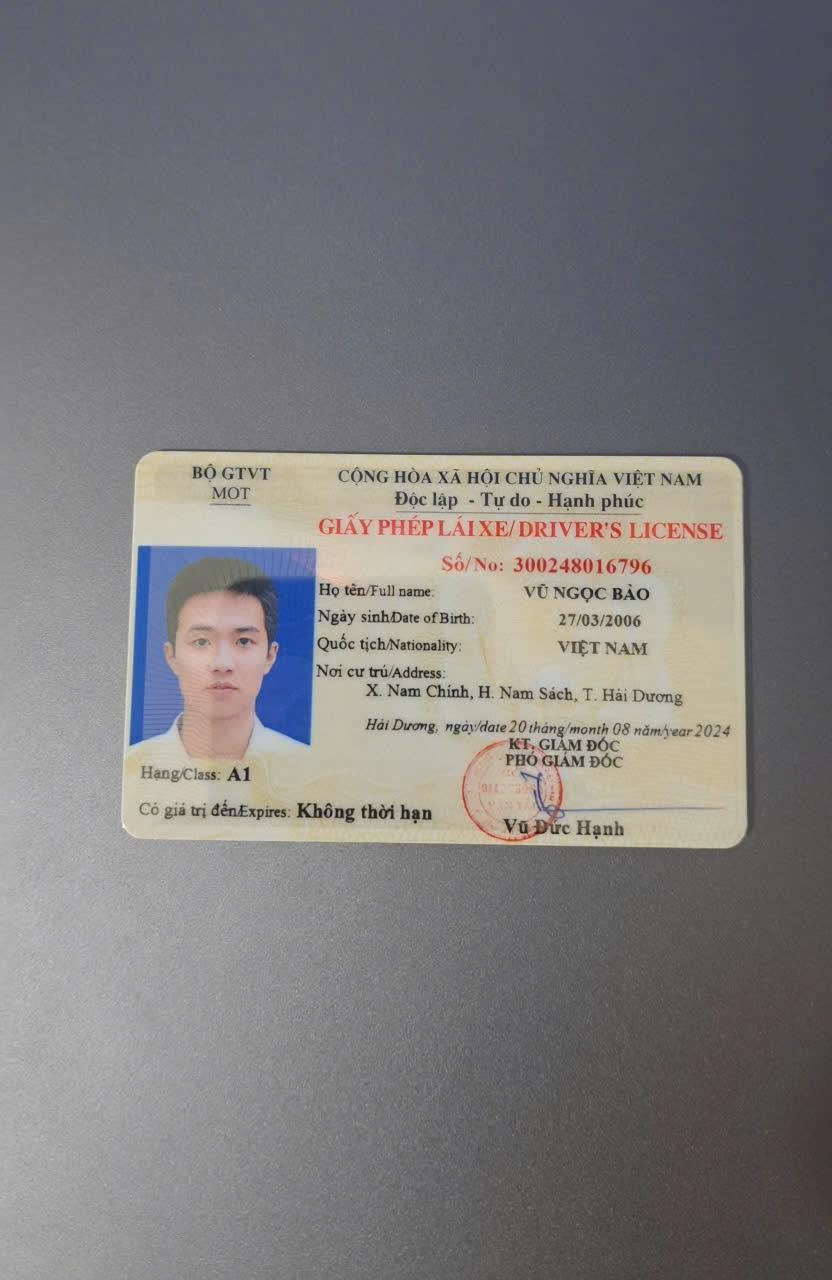gplx: (109, 443, 752, 855)
